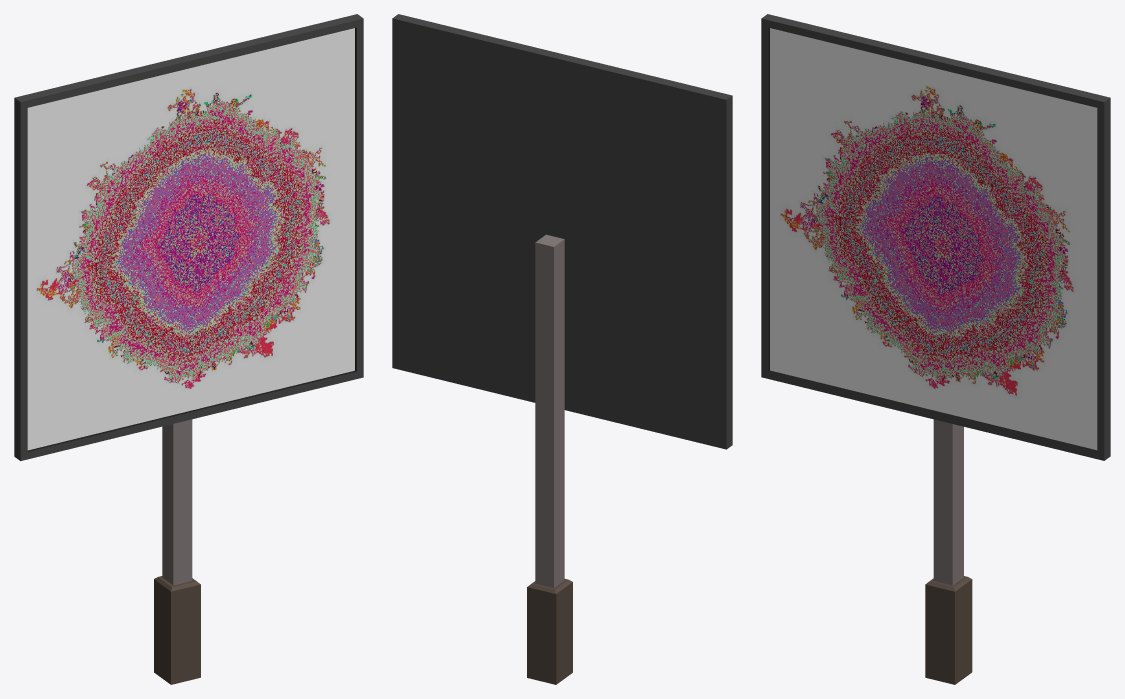
Rendered from pixels-beginning.glb.
3 renders of one model, left to right at view 1: azimuth 30°, elevation 25°; view 2: azimuth 150°, elevation 25°; view 3: azimuth 330°, elevation 25°, orthographic. The views are drawn at different scales.
Visible parts, largest first — view 1: first-image-dcl; view 2: first-image-dcl; view 3: first-image-dcl.
Part boxes in pixels (left/top/right/bottom): first-image-dcl: left=14, top=14, right=363, bottom=684; first-image-dcl: left=392, top=14, right=732, bottom=684; first-image-dcl: left=761, top=14, right=1110, bottom=684.
Size of what is drawn, in the model's own units: 2.54 by 4.43 by 0.3064.
2 materials, 2 textured.
